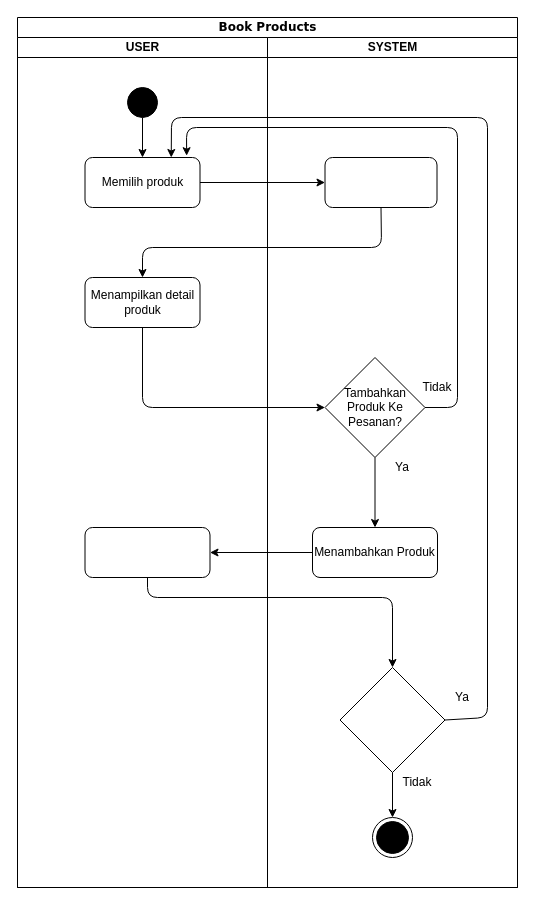
Image size: 535x905. Some labels were removed from this diagram. Here are the shapes that lost their labels. From the top down, the centre of each, then its label:
pixel 380 182: System memberikan detail produk
pixel 147 552: Menampilkan Produk
pixel 392 719: Apakah ingin menambah produk lain ?
